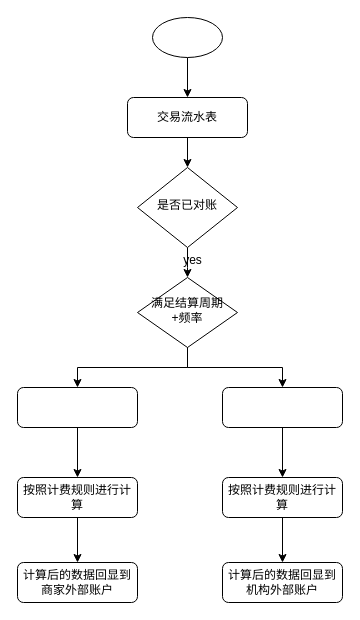
The diagram is 360 pixels wide and 620 high, and some of its shapes have lost their labels. The shapes that lost their labels are listed below. From the top down, each one's box as (x1, y1, x2, y2) in pixels, then its label:
(152, 16, 222, 58): 商家清算定时任务
(16, 386, 138, 428): 找到商户关联的计费模版
(222, 386, 342, 428): 找到结构关联的计费模版
